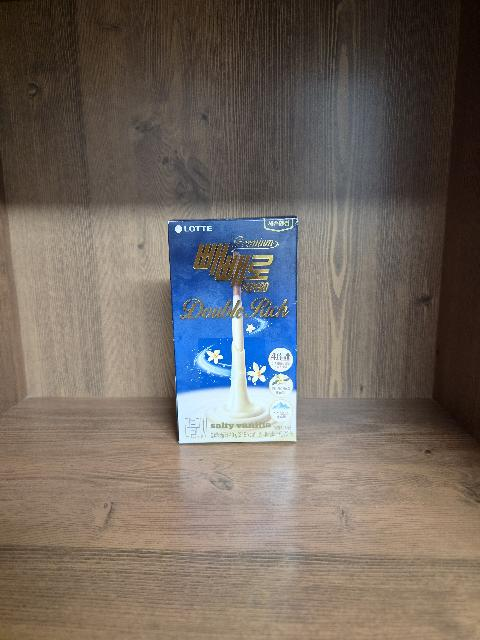pepero: (168, 215, 299, 444)
